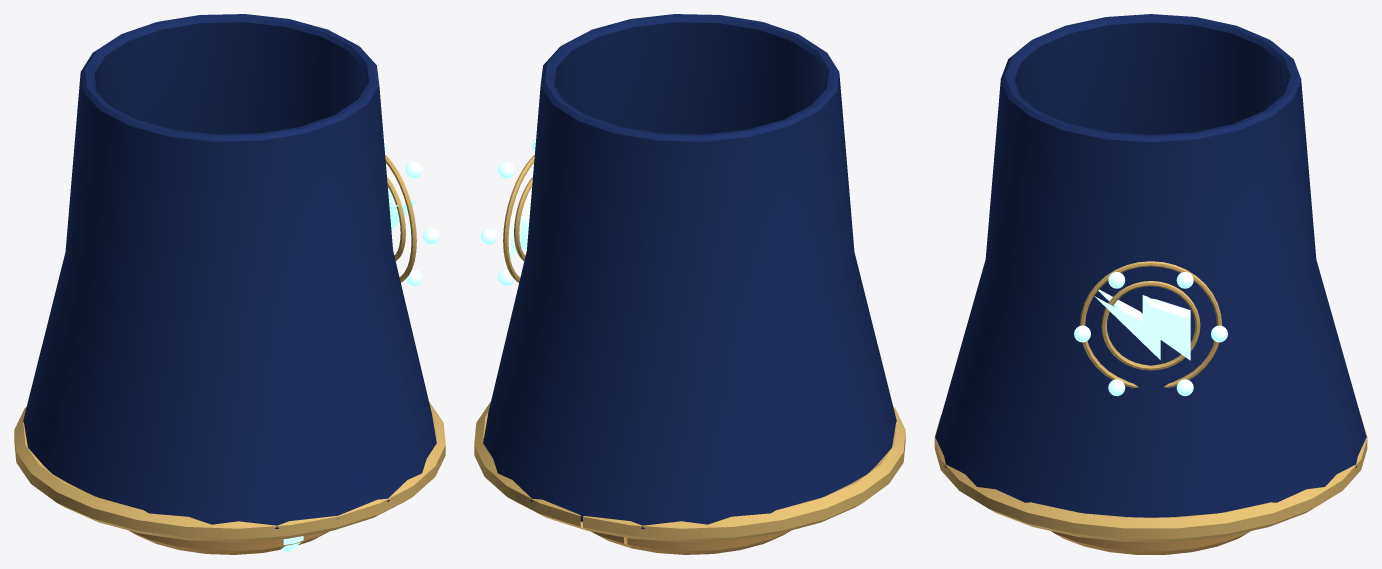
Rendered from boss_thunder_abbot_gloves_1.glb.
The picture shows the model from 3 angles, left to right: view 1: azimuth 30°, elevation 25°; view 2: azimuth 150°, elevation 25°; view 3: azimuth 270°, elevation 25°; orthographic projection.
Visible parts, largest first — view 1: boss_thunder_abbot_gloves_1; view 2: boss_thunder_abbot_gloves_1; view 3: boss_thunder_abbot_gloves_1.
Boxes of the visible parts, box(x1,y1,x2,y2) form: boss_thunder_abbot_gloves_1: box(14, 14, 445, 554); boss_thunder_abbot_gloves_1: box(474, 14, 905, 554); boss_thunder_abbot_gloves_1: box(934, 14, 1367, 554).
Size of the model in its own units: 0.221 by 0.2464 by 0.2227.
